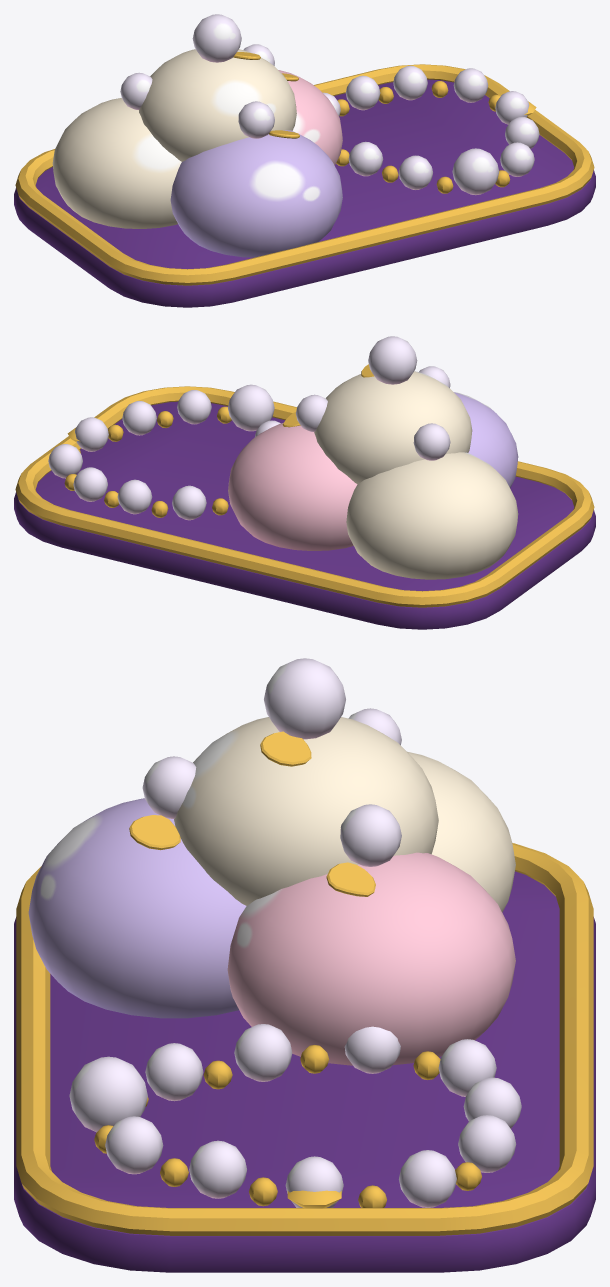
File: PearlMochi.glb
The picture shows the model from 3 angles, top to bottom: view 1: azimuth 30°, elevation 25°; view 2: azimuth 150°, elevation 25°; view 3: azimuth 270°, elevation 25°; orthographic projection. The views are drawn at different scales.
Parts seen in each view (by area): view 1: PearlMochi; view 2: PearlMochi; view 3: PearlMochi.
Part boxes in pixels (x1=…): PearlMochi: x1=14, y1=14, x2=595, y2=307; PearlMochi: x1=14, y1=336, x2=595, y2=629; PearlMochi: x1=14, y1=658, x2=595, y2=1272.
Bounding box in the file's own units: 1.9 × 0.7958 × 1.2.
Materials: 6 (6 with a texture image).
